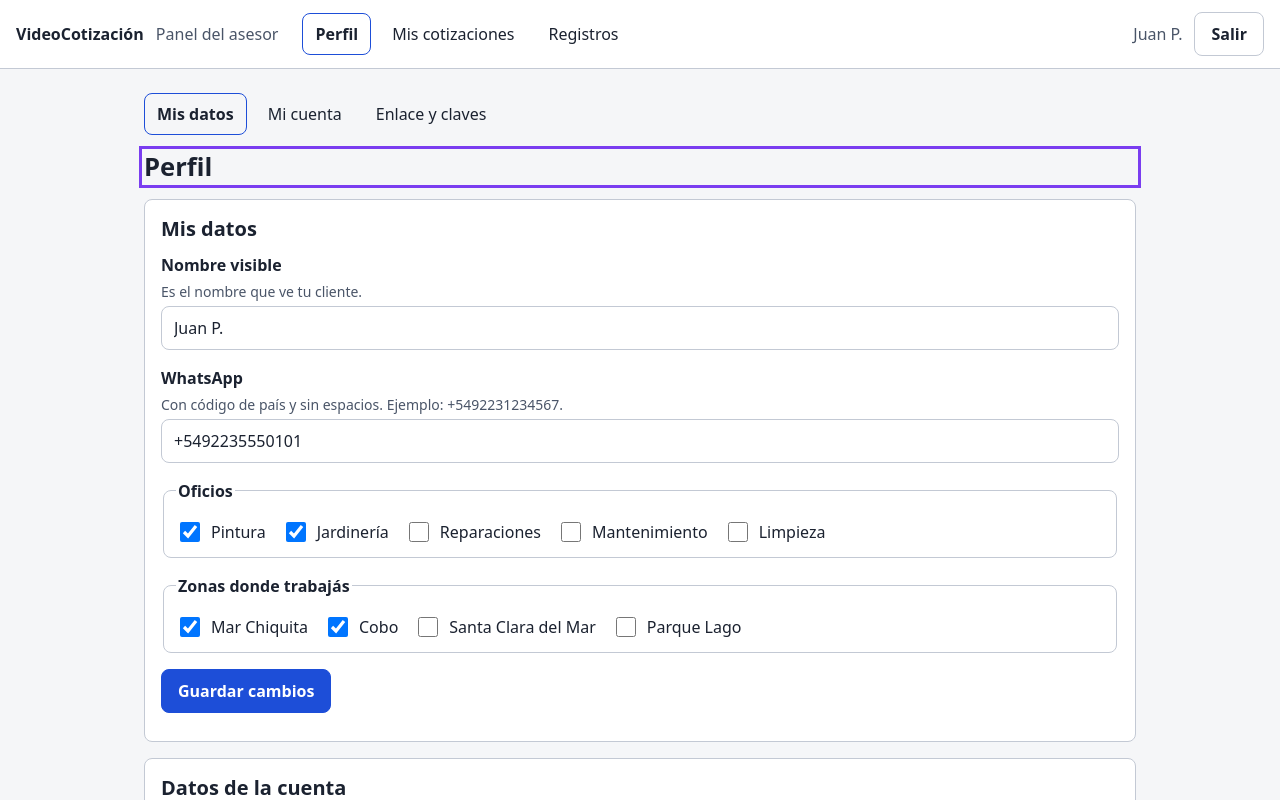
Test: navegación del panel › Perfil tiene tres secciones: Mis datos, Mi cuenta y Enlace y claves
Click the link "Mi cuenta".
click(305, 114)  # box [268,103,342,125]
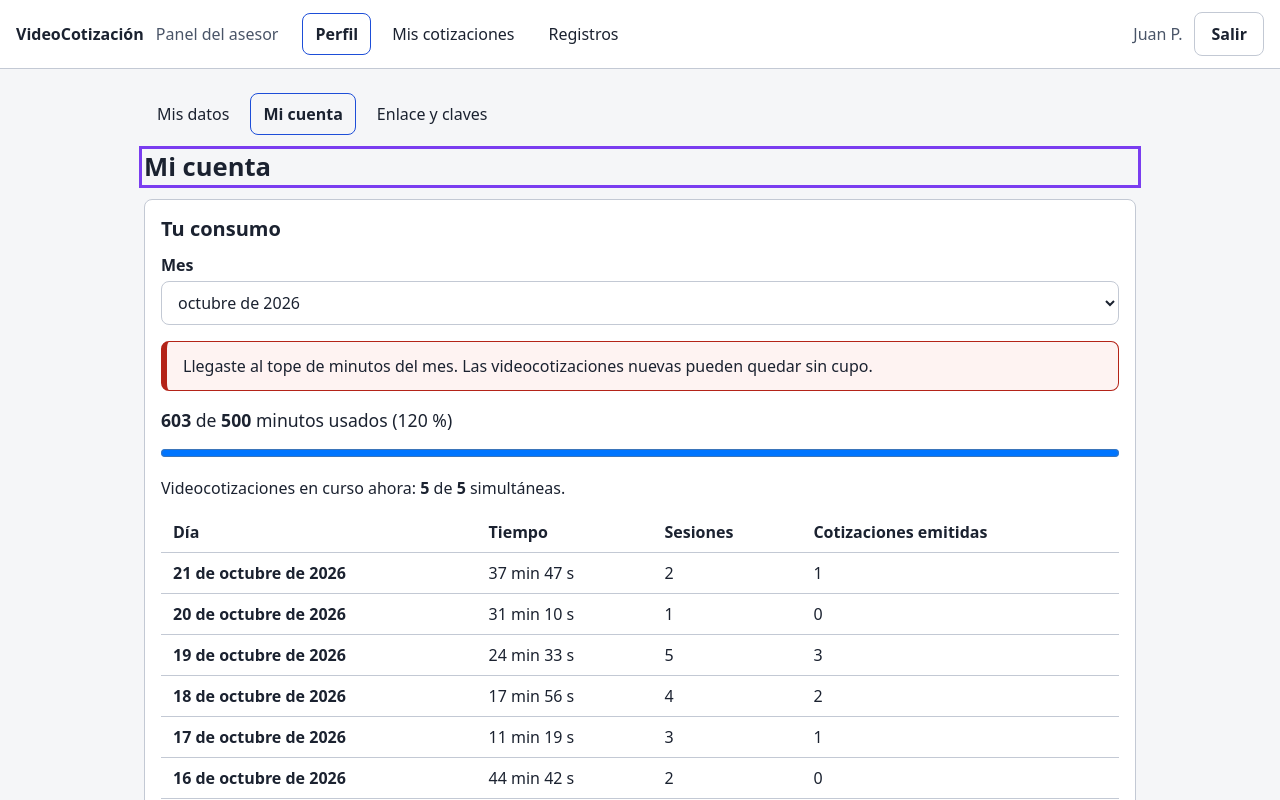
Check: the heading "Mi cuenta" is shown, box [144,149,271,184]
